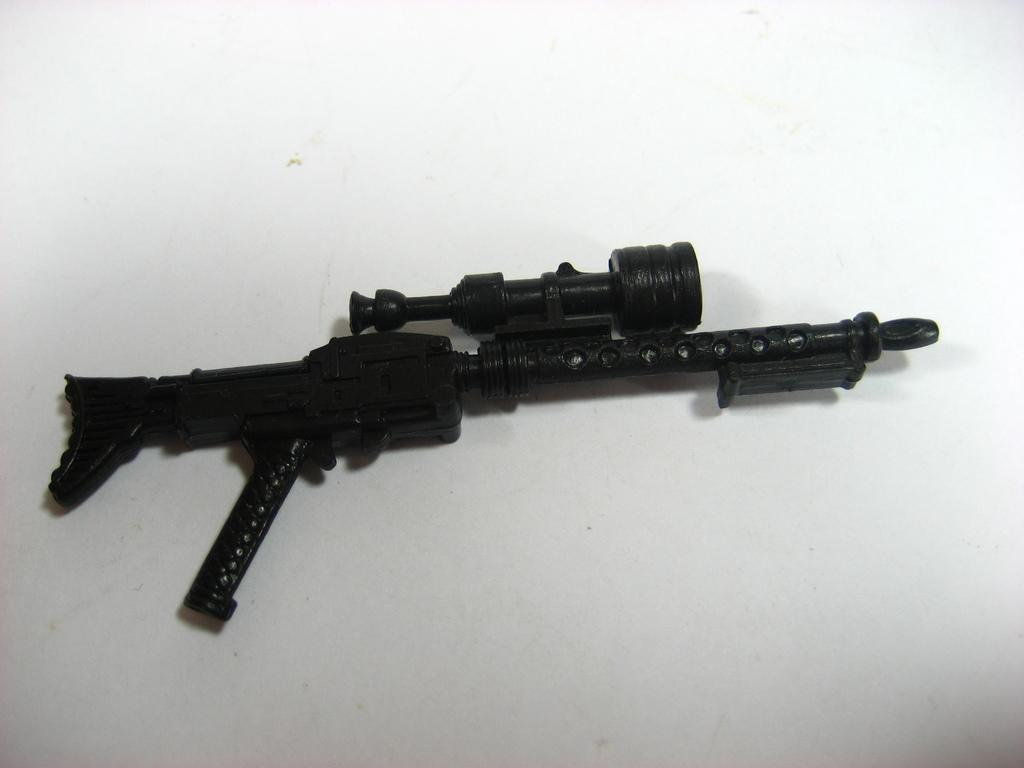Rifle: (29, 236, 938, 635)
